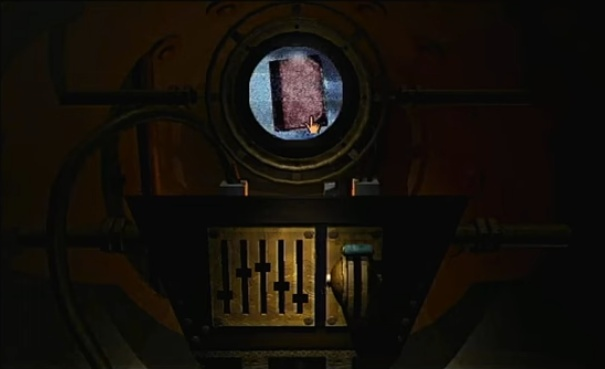Pointer: (304, 113, 325, 137)
